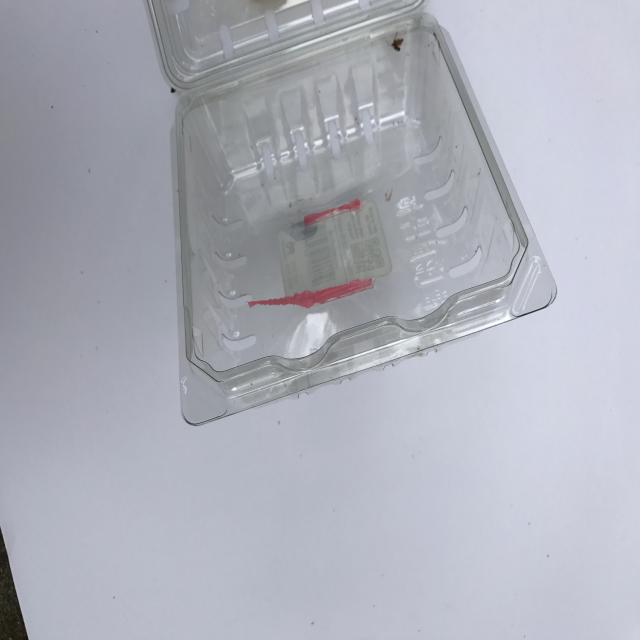plastic: (162, 3, 557, 426)
